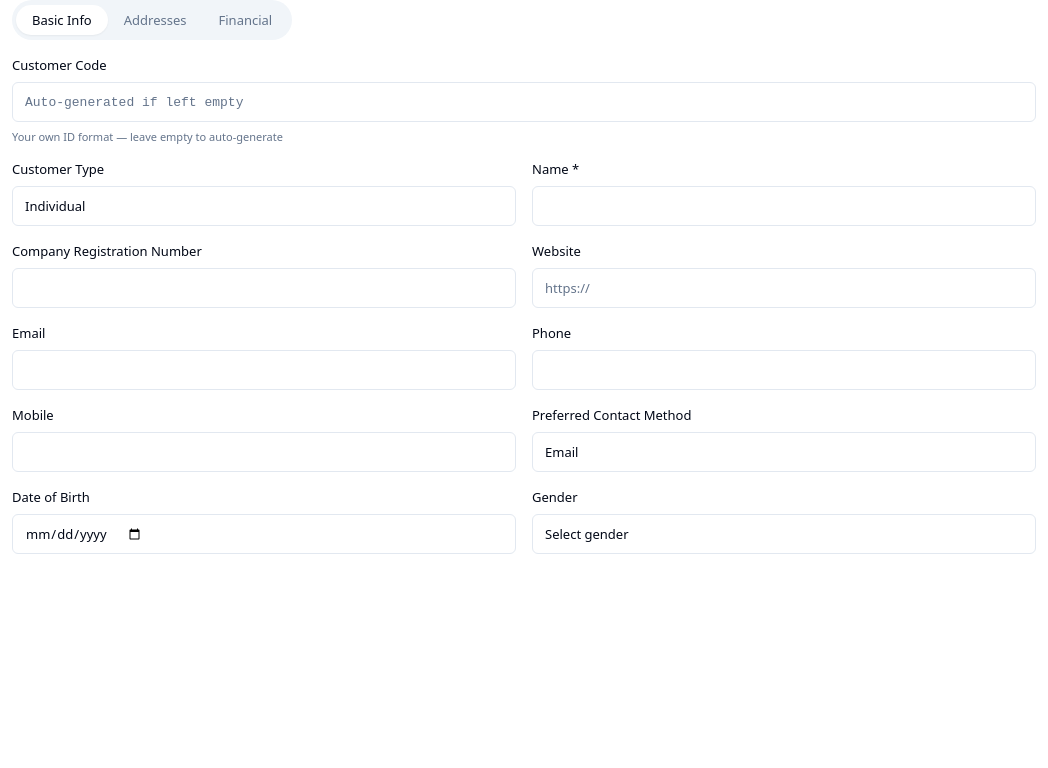
Scenario: CustomerForm (#437 CU9) › renders the structured billing address fields on the Addresses tab
Press the mouse on the tab "Addresses" at (155, 20), box left=108, top=5, right=202, bottom=35
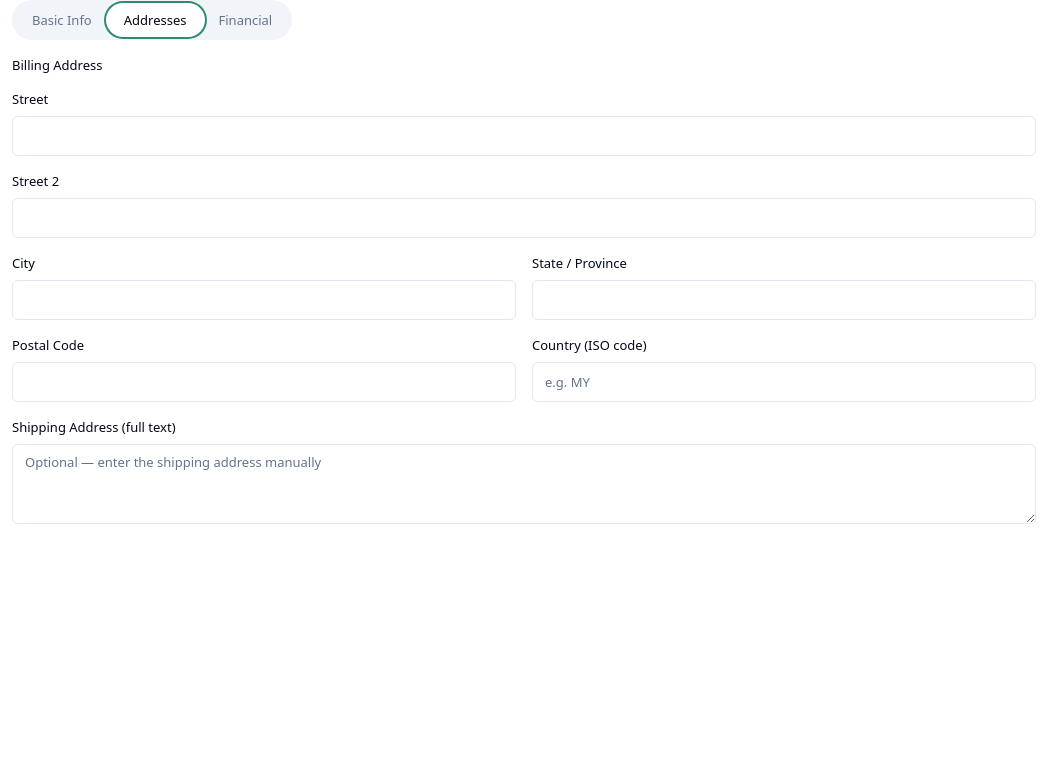
Expected: the field labelled "Street" is shown, left=12, top=116, right=1036, bottom=156
Expected: the field labelled "Street 2" is shown, left=12, top=198, right=1036, bottom=238
Expected: the field labelled "City" is shown, left=12, top=280, right=516, bottom=320
